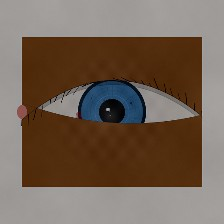hemorrhage_spot: (64, 88, 149, 156)
